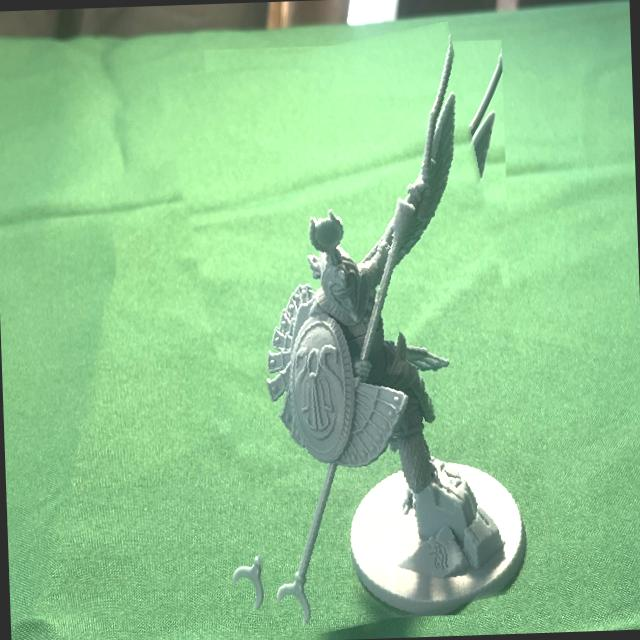isis: (180, 28, 545, 634)
